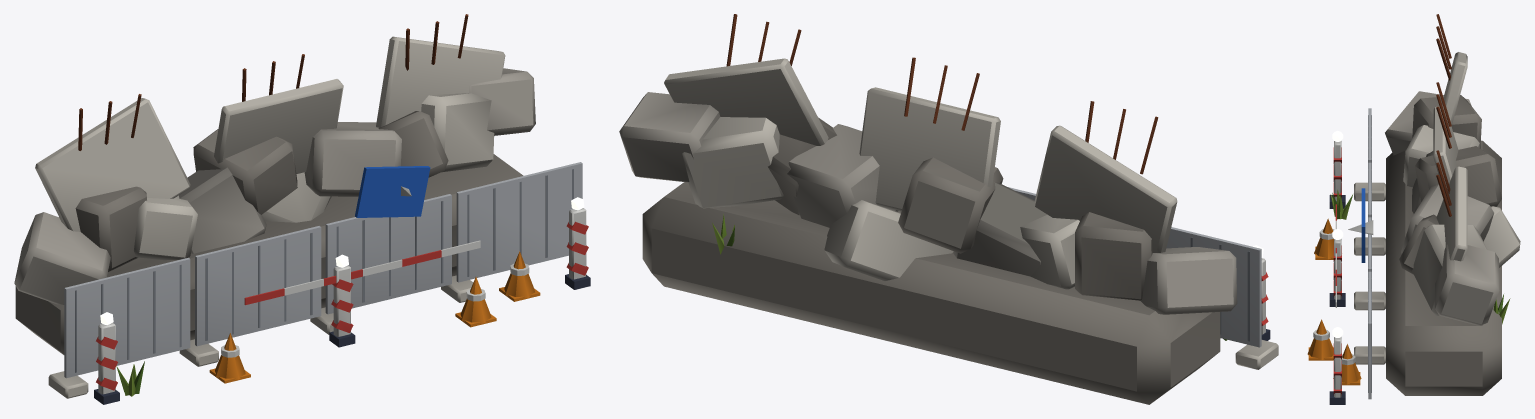
File: x_barrier_stadt.glb
3 renders of one model, left to right at view 1: azimuth 30°, elevation 25°; view 2: azimuth 150°, elevation 25°; view 3: azimuth 270°, elevation 25°, orthographic. The views are drawn at different scales.
Visible parts, largest first — view 1: body, sway_tape; view 2: body; view 3: body, lamp_glow.
Boxes of the visible parts, <box> form: body: <box>14,14,590,404</box>; sway_tape: <box>244,240,480,305</box>; body: <box>619,14,1278,404</box>; body: <box>1307,14,1520,404</box>; lamp_glow: <box>1332,130,1343,337</box>.
Size of the model in its own units: 8.11 by 3.54 by 3.31.
